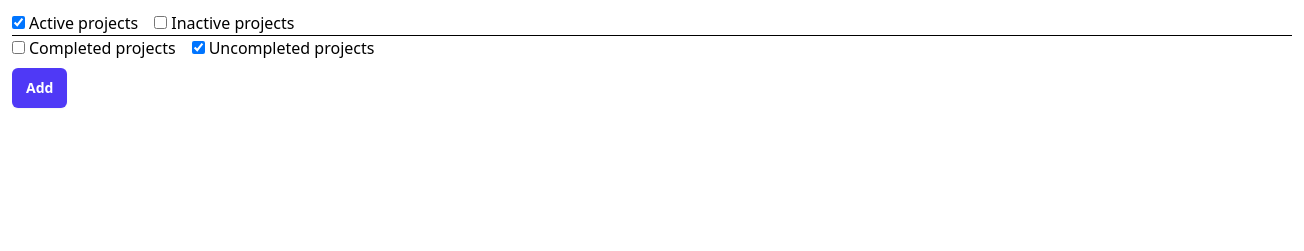
it: ProjectView › shows add project form when button Add is clicked
Click the button "Add" at (40,88), box left=12, top=68, right=67, bottom=108
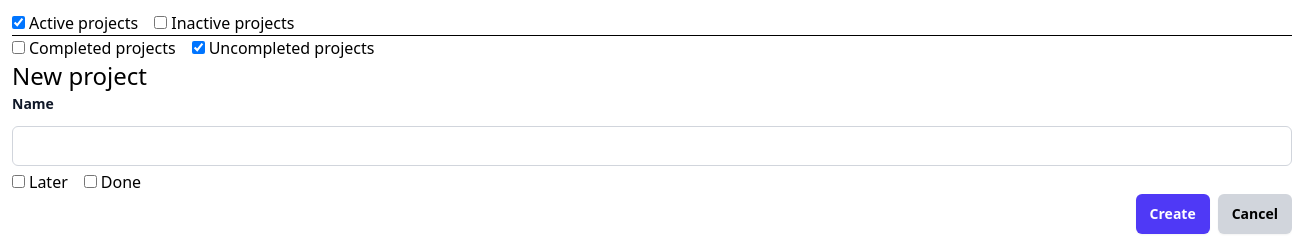
Expected: the element with test id "add-project-form" is shown
Expected: the button "Add" is gone
